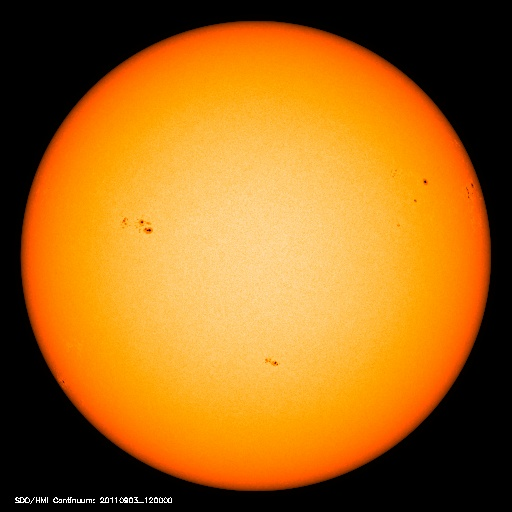sunspot: (383, 161, 432, 234), (114, 208, 157, 241), (457, 172, 483, 210), (250, 350, 285, 373)
